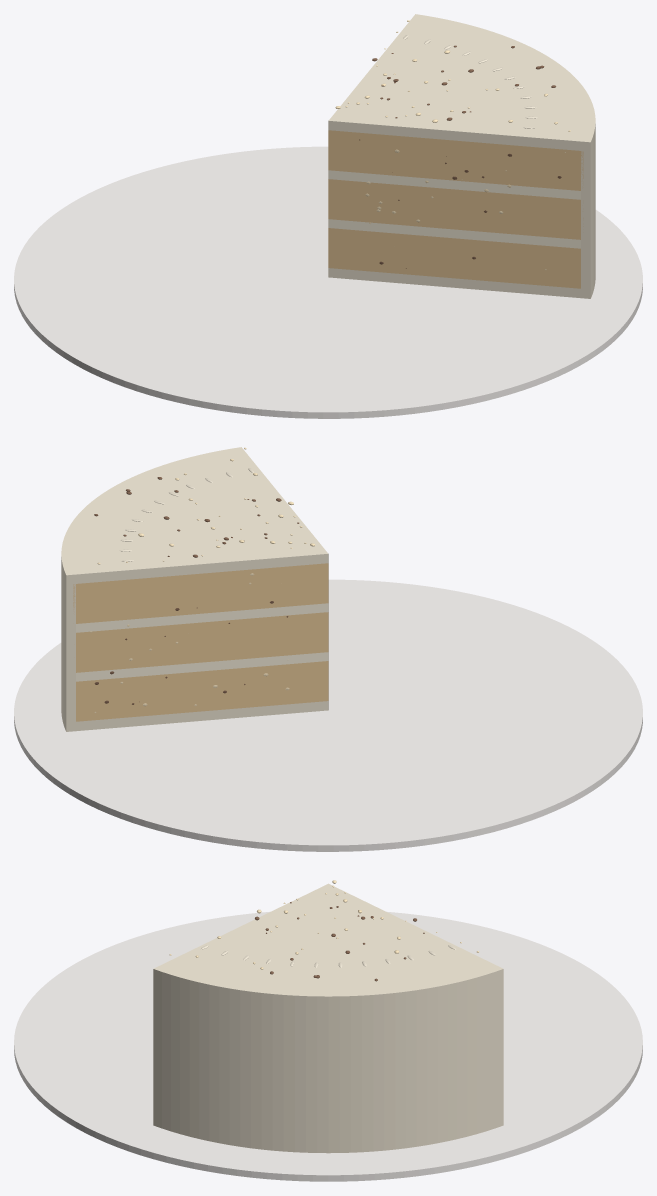
Rendered from inside_cutaway.glb.
The picture shows the model from 3 angles, top to bottom: view 1: azimuth 30°, elevation 25°; view 2: azimuth 150°, elevation 25°; view 3: azimuth 270°, elevation 25°; orthographic projection.
Parts seen in each view (by area): view 1: InsideCake_display_plate, InsideCake_top_frosting, InsideCake_sponge_layer_3, InsideCake_sponge_layer_1, InsideCake_sponge_layer_2, InsideCake_outer_frosting_shell, InsideCake_bottom_frosting, InsideCake_filling_band_1, InsideCake_filling_band_2; view 2: InsideCake_display_plate, InsideCake_top_frosting, InsideCake_sponge_layer_3, InsideCake_sponge_layer_2, InsideCake_sponge_layer_1, InsideCake_outer_frosting_shell, InsideCake_bottom_frosting, InsideCake_filling_band_2, InsideCake_filling_band_1; view 3: InsideCake_display_plate, InsideCake_outer_frosting_shell, InsideCake_top_frosting.
Boxes of the visible parts, x1,y1,x2,y2 form: InsideCake_display_plate: [14, 146, 642, 418]; InsideCake_top_frosting: [328, 17, 588, 150]; InsideCake_sponge_layer_3: [328, 130, 583, 190]; InsideCake_sponge_layer_1: [328, 228, 580, 288]; InsideCake_sponge_layer_2: [328, 179, 583, 239]; InsideCake_outer_frosting_shell: [412, 14, 595, 298]; InsideCake_bottom_frosting: [328, 268, 580, 298]; InsideCake_filling_band_1: [328, 219, 580, 248]; InsideCake_filling_band_2: [328, 170, 580, 199]; InsideCake_display_plate: [14, 579, 642, 851]; InsideCake_top_frosting: [68, 450, 328, 583]; InsideCake_sponge_layer_3: [73, 563, 328, 623]; InsideCake_sponge_layer_2: [76, 612, 328, 672]; InsideCake_sponge_layer_1: [76, 661, 328, 721]; InsideCake_outer_frosting_shell: [61, 447, 243, 731]; InsideCake_bottom_frosting: [76, 701, 328, 731]; InsideCake_filling_band_2: [76, 603, 328, 632]; InsideCake_filling_band_1: [76, 652, 328, 681]; InsideCake_display_plate: [14, 911, 642, 1181]; InsideCake_outer_frosting_shell: [153, 966, 503, 1153]; InsideCake_top_frosting: [158, 883, 498, 993].
Bounding box in the file's own units: 4.84 × 1.48 × 4.84.
